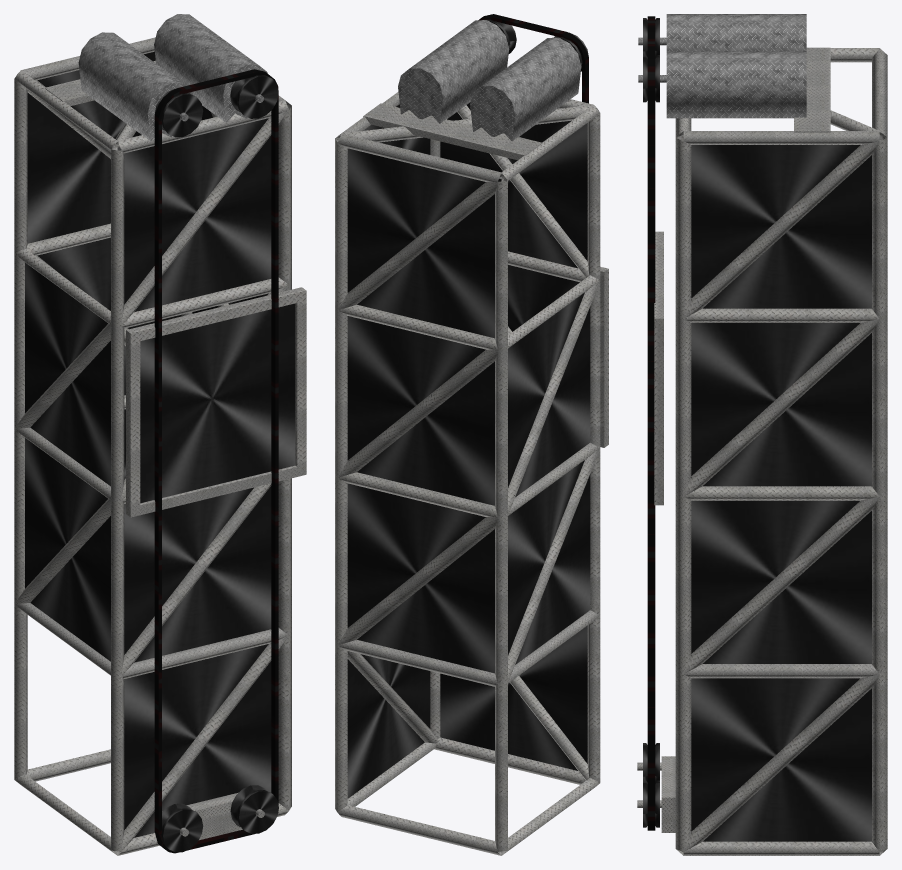
The model's file is Lift.FBX.
3 renders of one model, left to right at view 1: azimuth 30°, elevation 25°; view 2: azimuth 150°, elevation 25°; view 3: azimuth 270°, elevation 25°, orthographic. The views are drawn at different scales.
Visible parts, largest first — view 1: Setka, ShahtaKarkas, PlaneEasy, Remen, ListRamka, Motor1, Motor002, Disk001, Disk003, Disk, Disk002; view 2: Setka, ShahtaKarkas, Motor1, Motor002, PlaneEasy, ListRamka, Remen; view 3: Setka, ShahtaKarkas, Motor002, Remen, Motor1, ListRamka.
Part boxes in pixels (x1,y1,x2,y2): Setka: [25, 51, 271, 837]; ShahtaKarkas: [14, 37, 291, 855]; PlaneEasy: [140, 303, 295, 503]; Remen: [154, 69, 278, 853]; ListRamka: [126, 287, 306, 517]; Motor1: [78, 32, 192, 141]; Motor002: [154, 14, 267, 122]; Disk001: [230, 785, 278, 833]; Disk003: [230, 75, 278, 118]; Disk: [156, 803, 203, 852]; Disk002: [154, 88, 203, 137]; Setka: [347, 102, 590, 798]; ShahtaKarkas: [335, 92, 600, 855]; Motor1: [470, 37, 581, 141]; Motor002: [398, 20, 509, 123]; PlaneEasy: [508, 265, 579, 331]; ListRamka: [600, 266, 608, 447]; Remen: [478, 14, 588, 103]; Setka: [691, 145, 871, 841]; ShahtaKarkas: [637, 47, 887, 855]; Motor002: [638, 51, 806, 118]; Remen: [647, 16, 655, 830]; Motor1: [638, 14, 806, 51]; ListRamka: [654, 231, 663, 505].
Size of the model in its own units: 10.82 by 43.83 by 12.75.
Materials: 4 (4 with a texture image).
